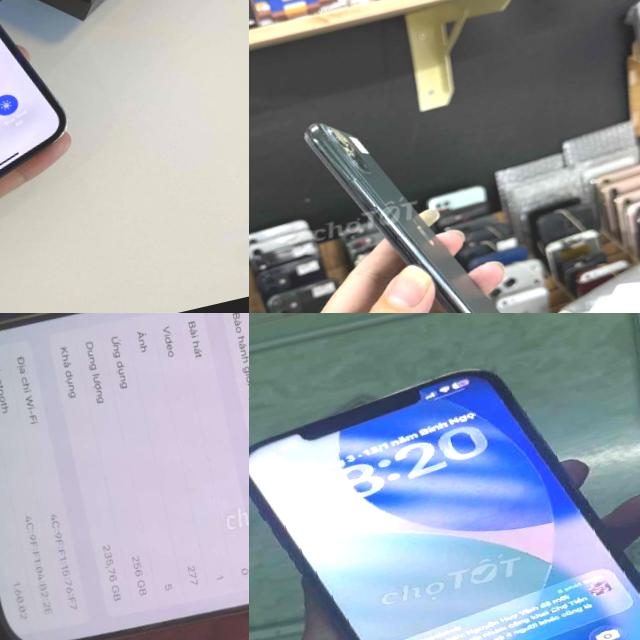gen_11: (294, 68, 537, 313)
gen_12_13: (249, 332, 640, 640), (0, 0, 82, 258)
gen_16: (0, 313, 249, 640)
